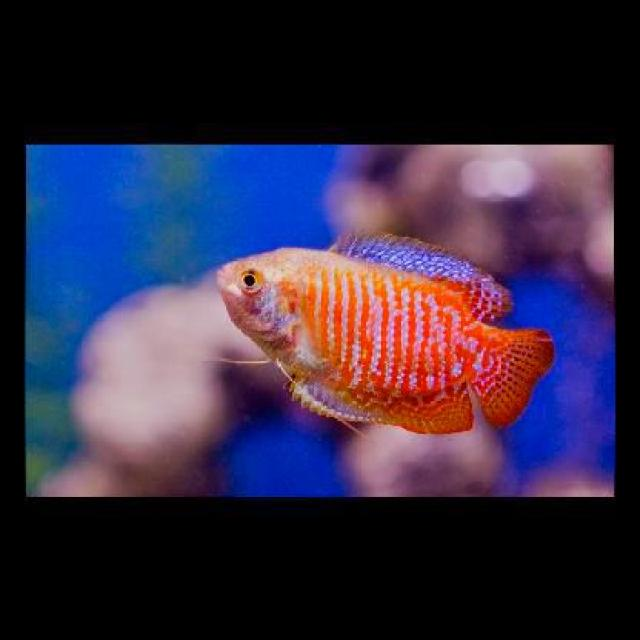Gourami: (215, 228, 548, 440)
